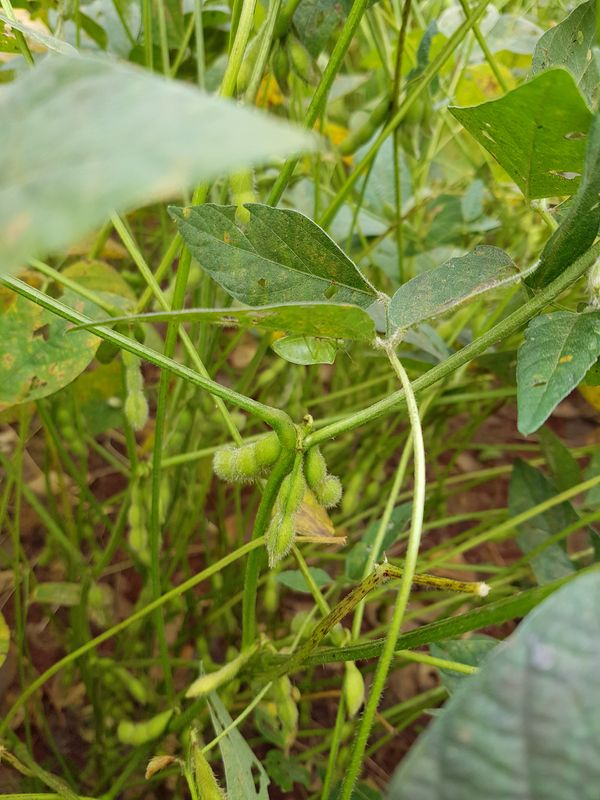Nezara_viridula_adulto: (257, 317, 359, 380)
